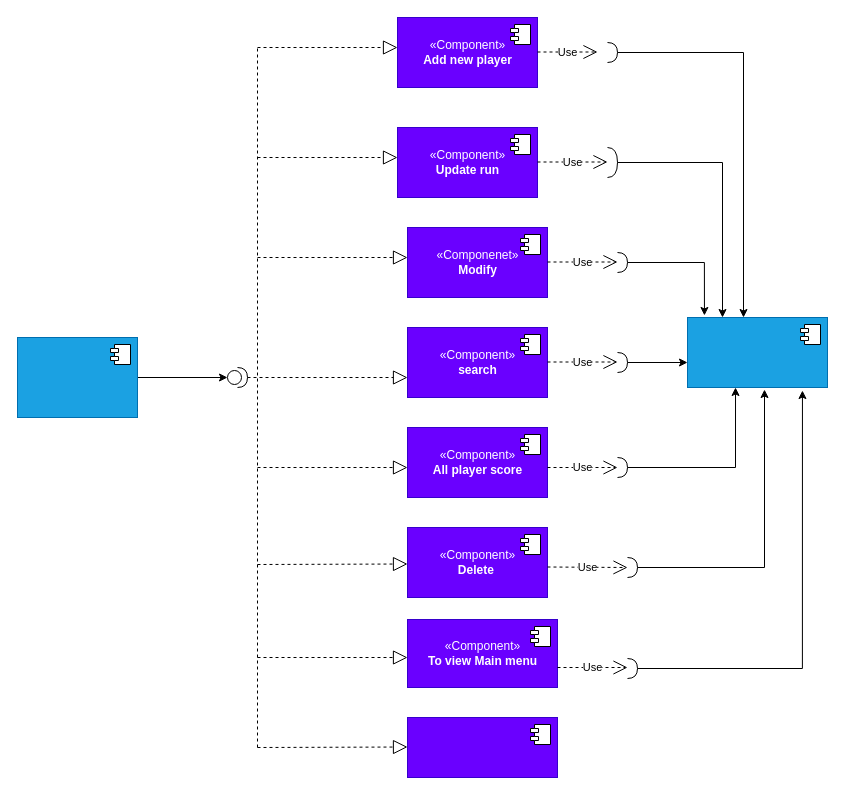
Image size: 845x795. Some labels were removed from this diagram. Here are the shapes that lost their labels. From the top down, the centre of each, then its label:
At (x=757, y=352): "«Component» FILE".
At (x=77, y=377): "«Components» Menu".
At (x=482, y=747): "«Component» Exit".
